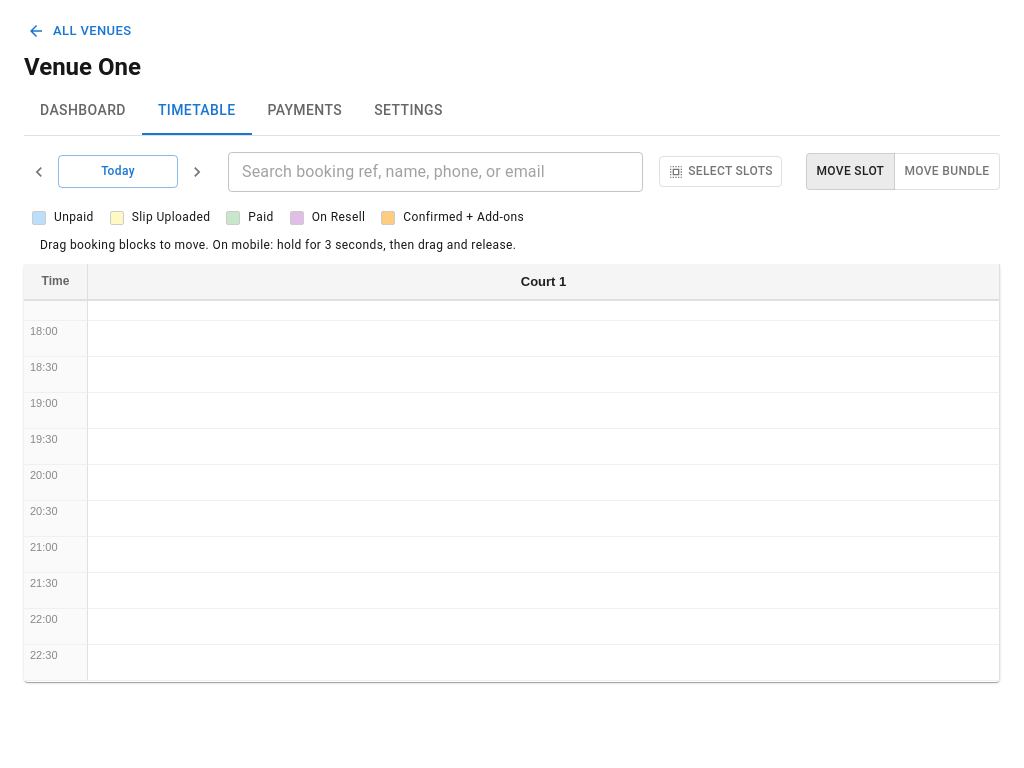
Test case: VenueTimetable add-ons display › does not fetch search results until the query has at least 3 characters
This screenshot has width=1024, height=768.
(page scrolled)
In the field with placeholder "Search booking ref, name, phone, or email": (436, 172) 228,152 -> 643,192, type "ab"
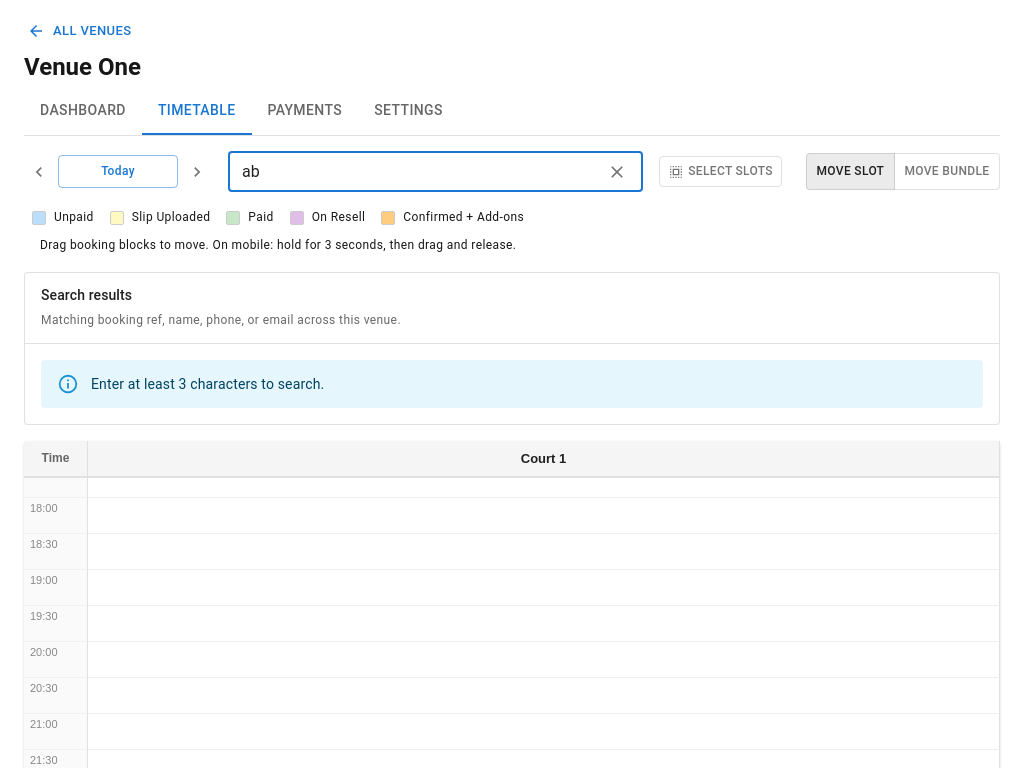
Expected: the text "Enter at least 3 characters to search." is shown, 91,376 -> 324,392
